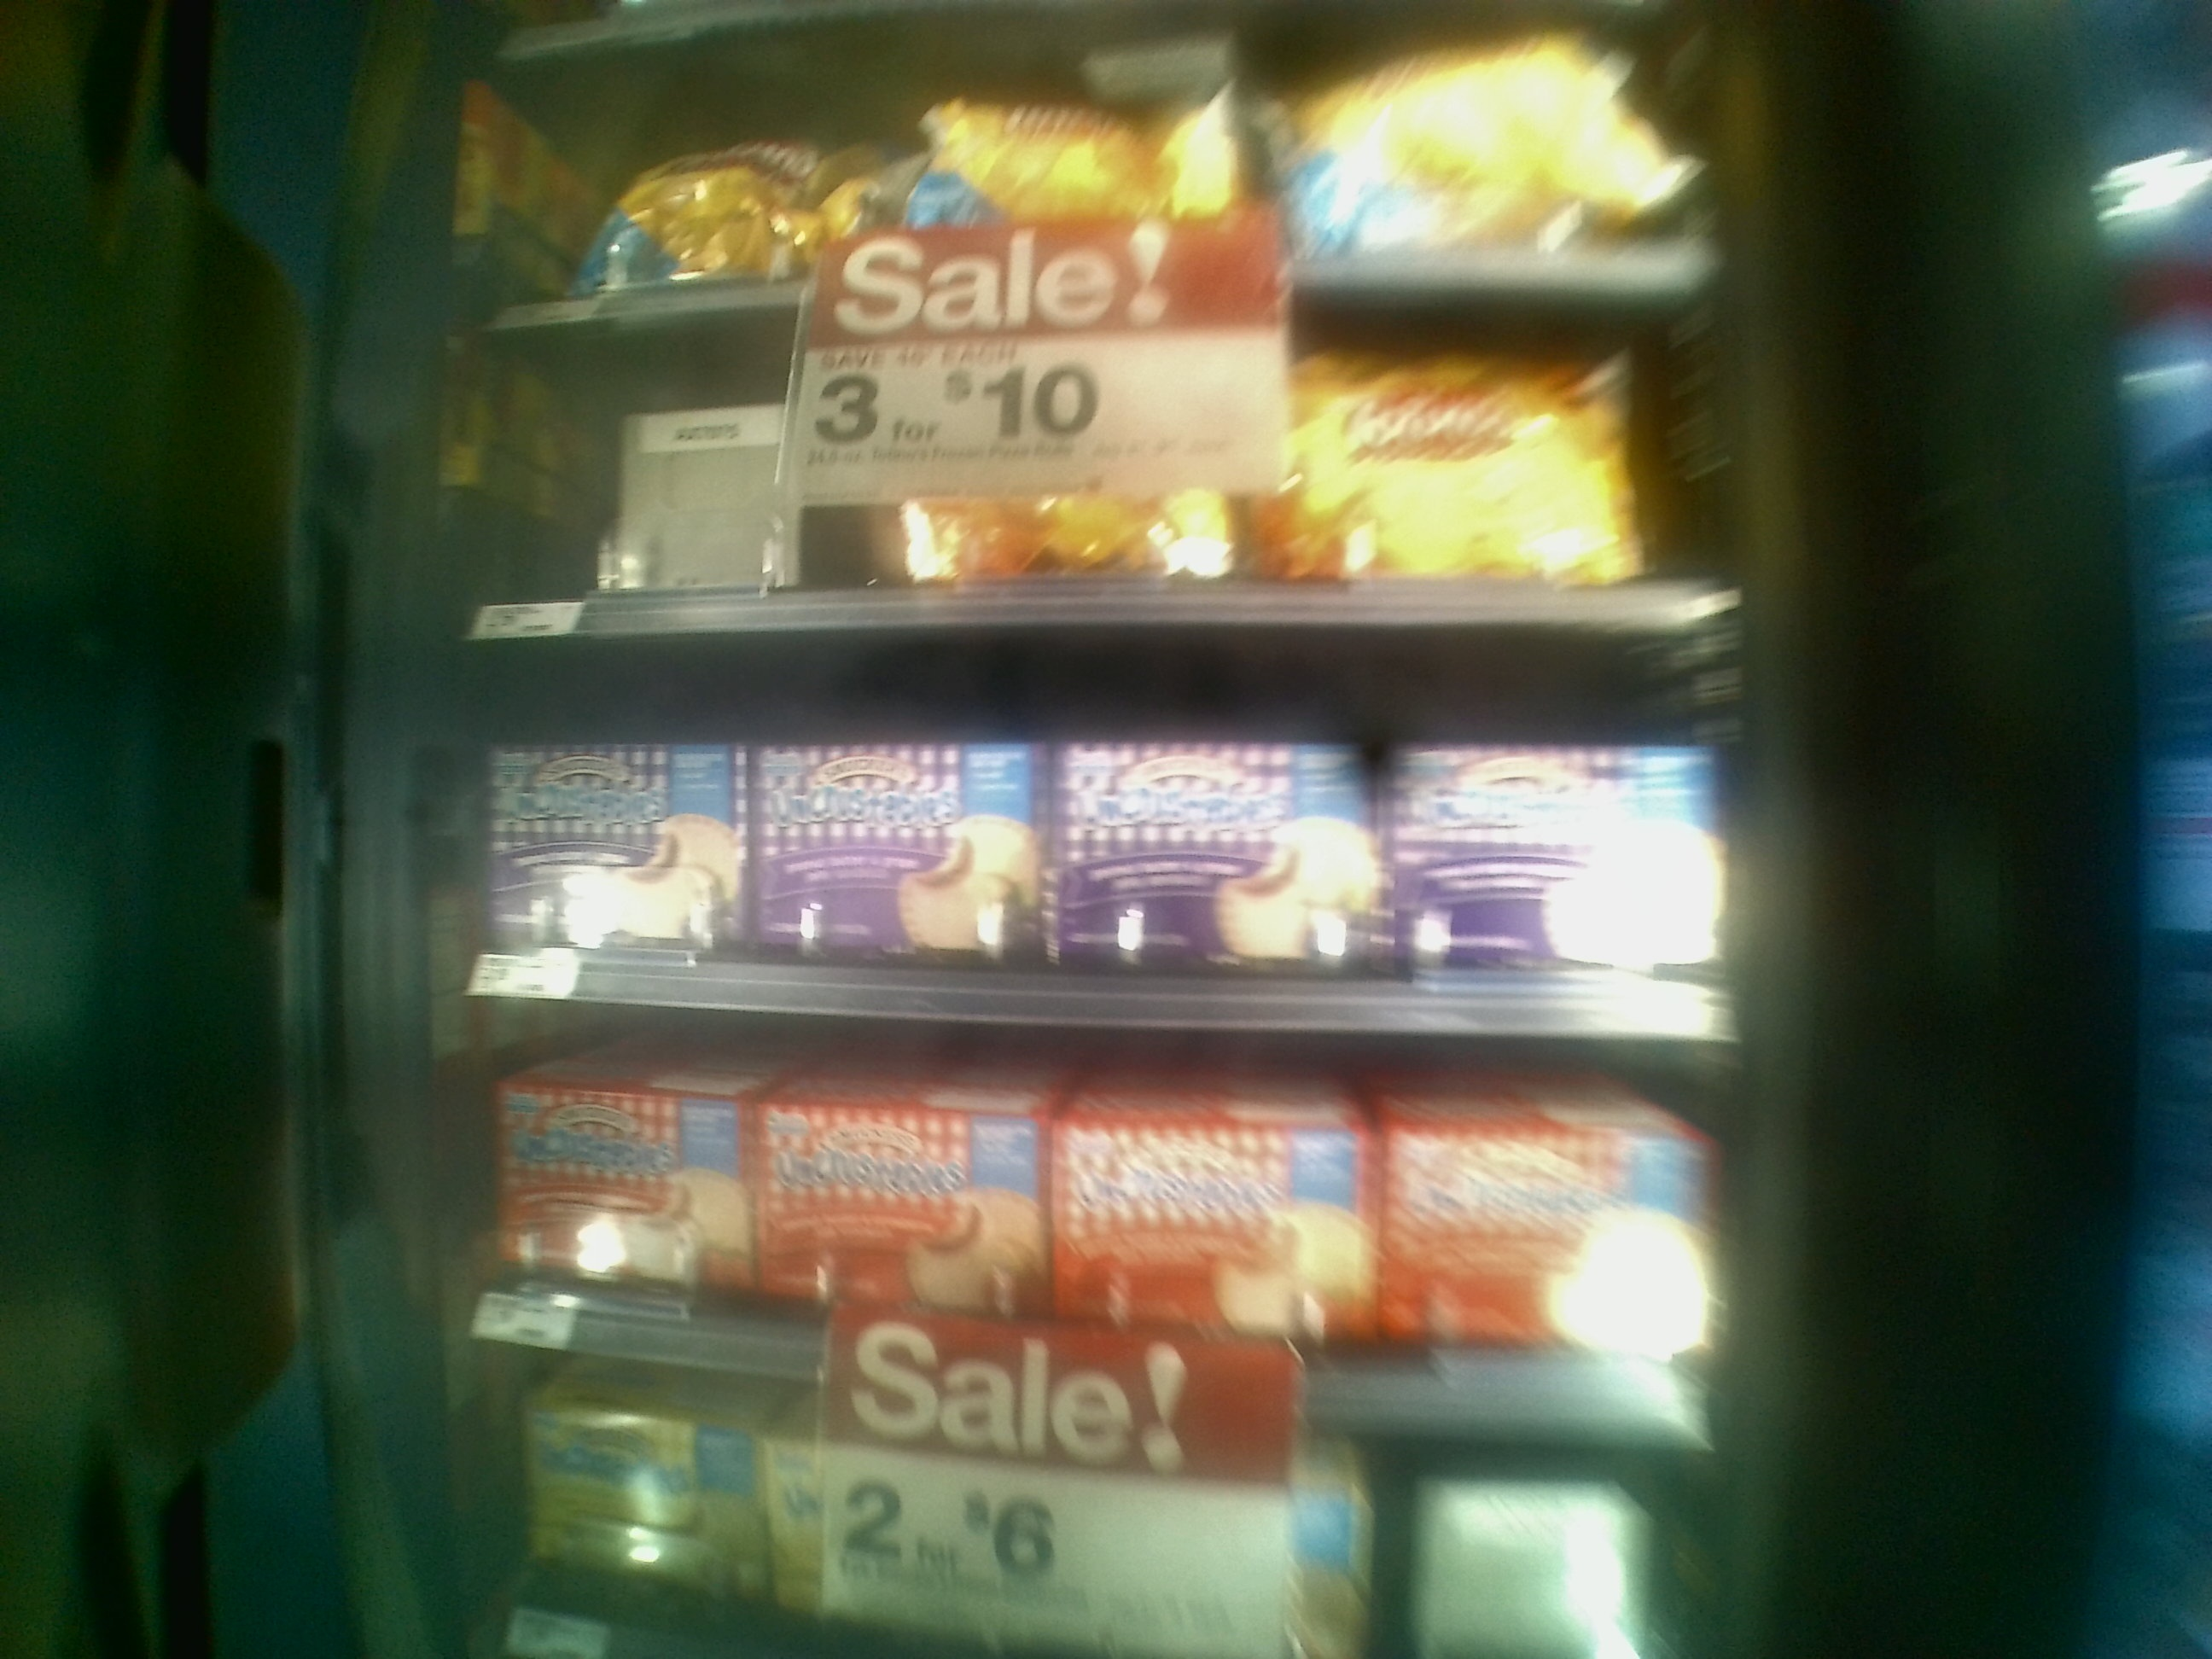shelf: (449, 972, 1730, 1436), (446, 613, 1730, 1032)
